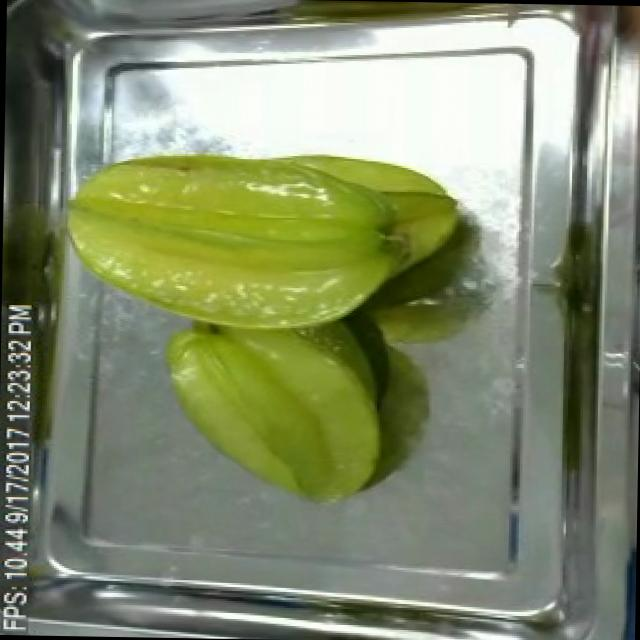fruit: (33, 127, 480, 523), (52, 137, 442, 336), (143, 293, 395, 519)
